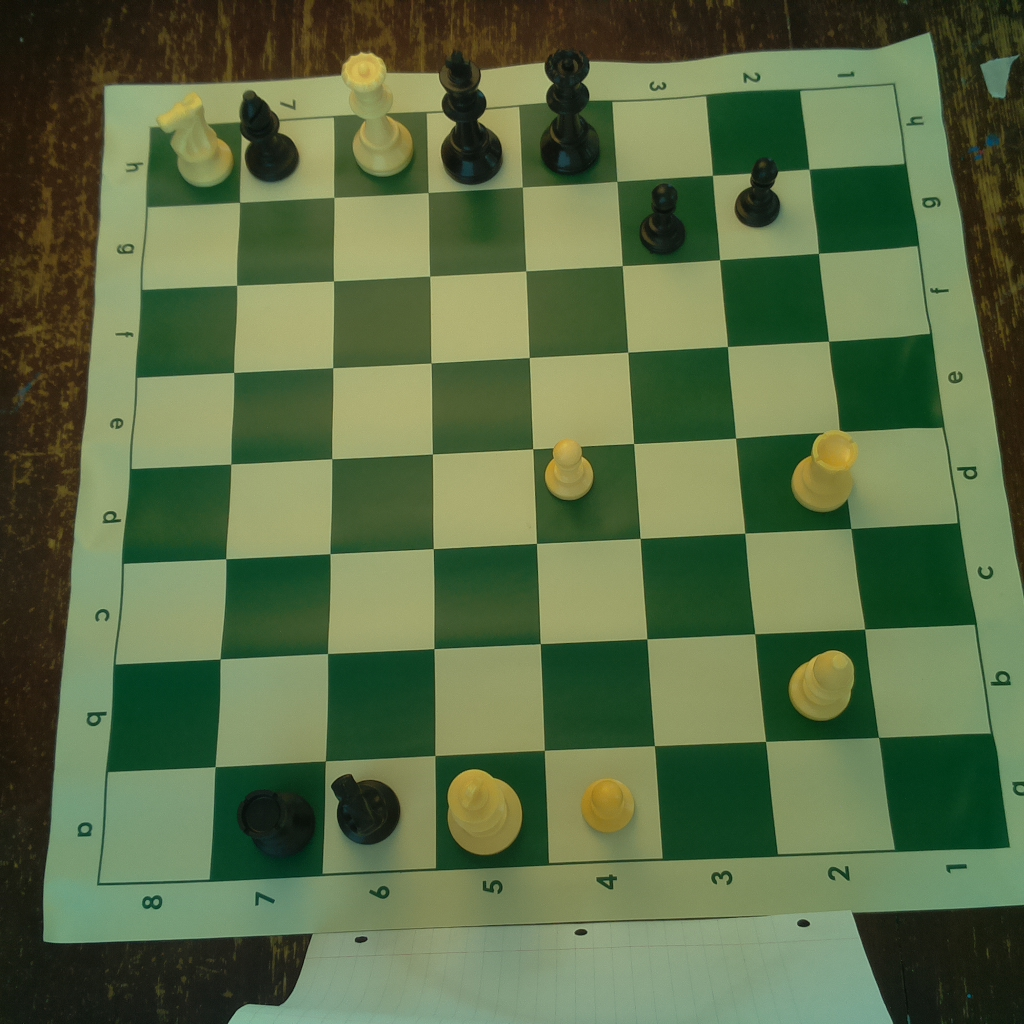black_bishop: (232, 86, 306, 186)
black_king: (437, 49, 505, 186)
black_knight: (328, 761, 405, 847)
black_pawn: (729, 152, 789, 231), (633, 179, 690, 261)
black_queen: (540, 47, 605, 178)
black_rook: (231, 782, 321, 865)
file_a: (98, 735, 1010, 888)
file_b: (105, 622, 994, 771)
file_c: (115, 521, 976, 662)
file_d: (124, 428, 960, 564)
file_e: (129, 335, 944, 470)
file_f: (136, 245, 933, 380)
file_g: (142, 165, 921, 292)
file_h: (147, 84, 907, 208)
outline: (94, 86, 1015, 886)
rank_1: (797, 84, 1010, 854)
rank_2: (707, 90, 896, 854)
rank_3: (614, 96, 781, 861)
rank_4: (520, 101, 664, 866)
rank_5: (425, 108, 551, 873)
rank_6: (319, 112, 441, 873)
rank_7: (211, 117, 336, 882)
rank_8: (98, 123, 244, 888)
white_bishop: (785, 645, 860, 723)
white_king: (440, 758, 528, 856)
white_knight: (154, 91, 234, 191)
white_pawn: (541, 436, 603, 506), (579, 771, 641, 839)
white_queen: (340, 48, 416, 177)
white_rook: (786, 425, 859, 517)
